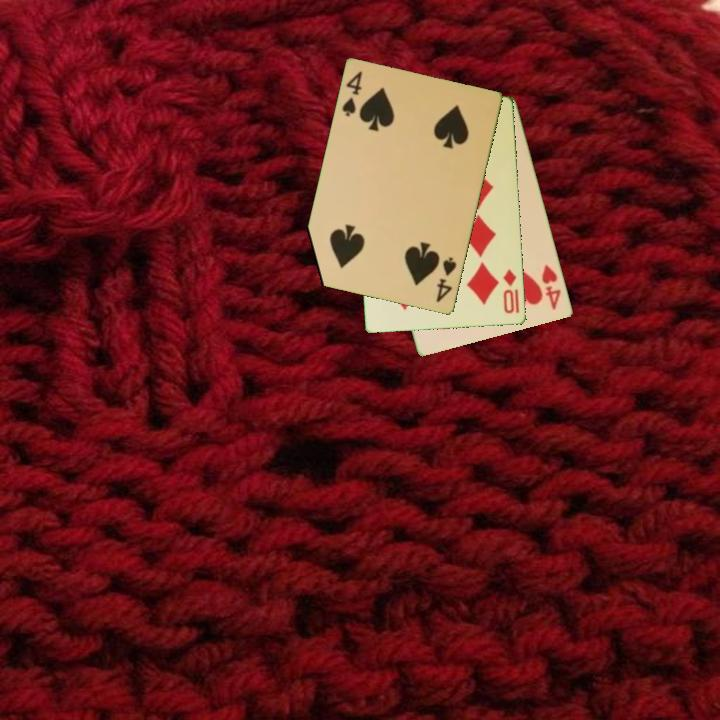10d: (500, 266, 519, 317)
4h: (539, 261, 564, 313)
4s: (433, 254, 460, 306), (339, 68, 365, 120)
